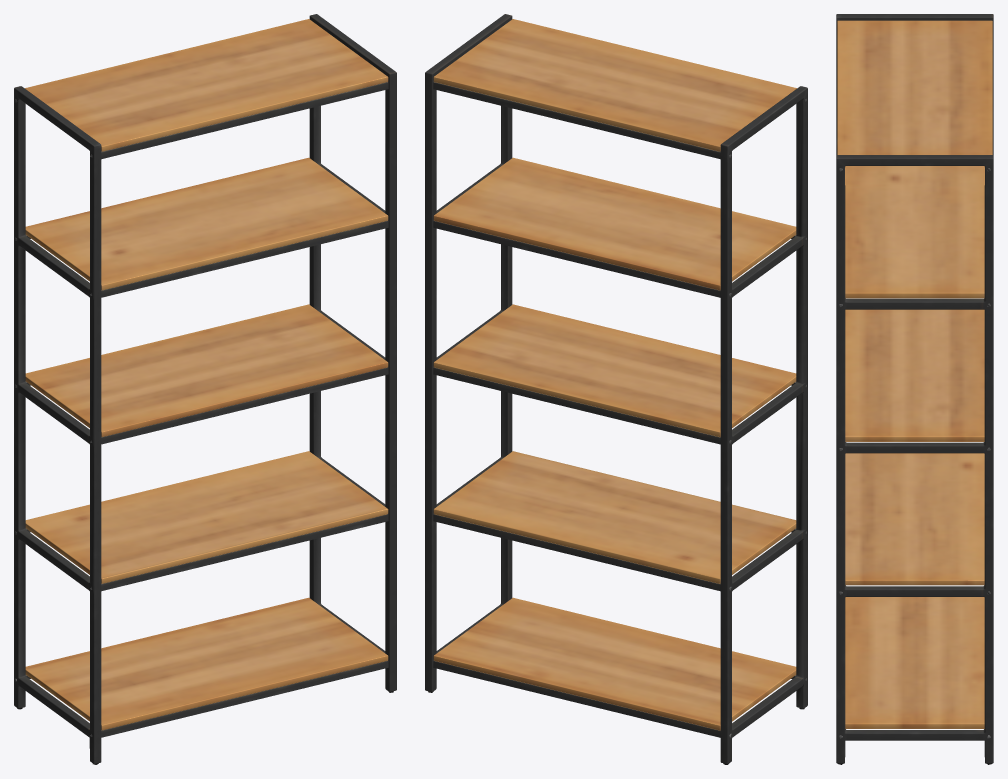
3 renders of one model, left to right at view 1: azimuth 30°, elevation 25°; view 2: azimuth 150°, elevation 25°; view 3: azimuth 270°, elevation 25°, orthographic. The views are drawn at different scales.
Parts seen in each view (by area): view 1: steel_frame_shelves_01; view 2: steel_frame_shelves_01; view 3: steel_frame_shelves_01.
Part boxes in pixels (x1=…): steel_frame_shelves_01: x1=14, y1=14, x2=396, y2=764; steel_frame_shelves_01: x1=425, y1=14, x2=807, y2=764; steel_frame_shelves_01: x1=836, y1=14, x2=993, y2=764.
Bounding box in the file's own units: 1.1 × 2.14 × 0.5021.
Materials: 1 (1 with a texture image).
